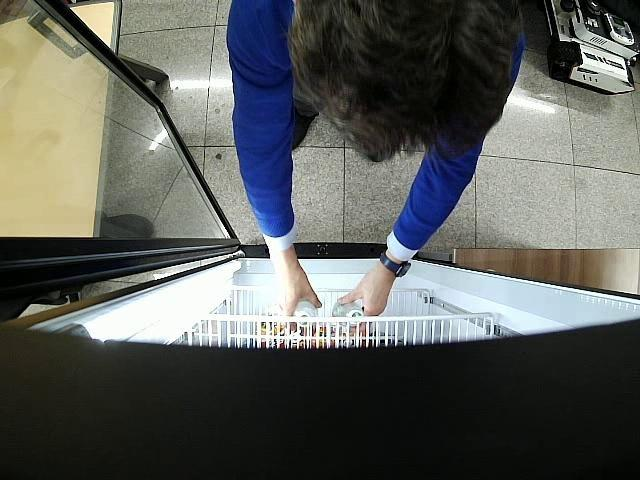18_trevi: (332, 299, 363, 325), (294, 301, 318, 326)
